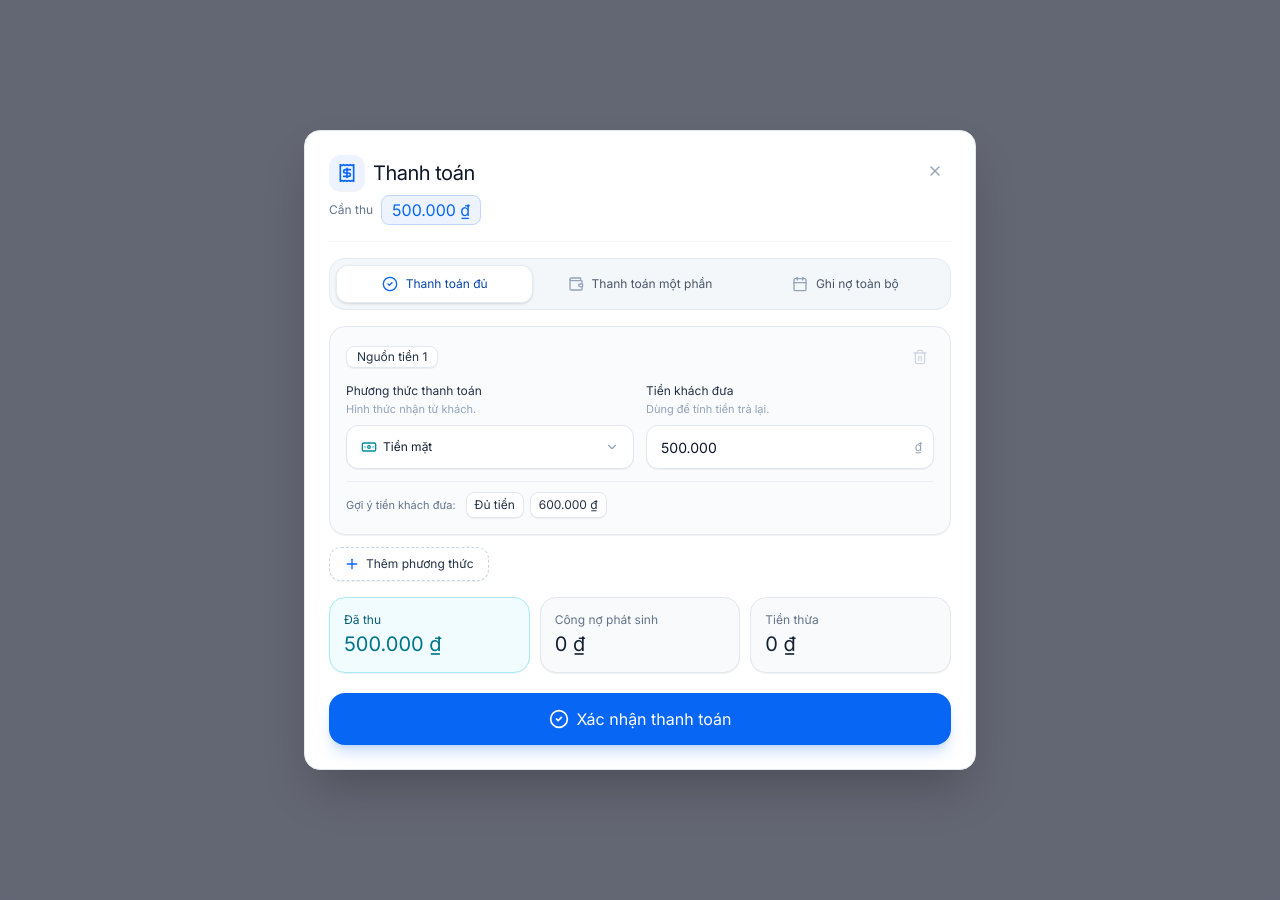
Scenario: PaymentDialog › automatically balances payment sources in full payment mode
The image size is (1280, 900).
Click the button "Thêm phương thức". click: (409, 564)
box: [329, 547, 488, 581]
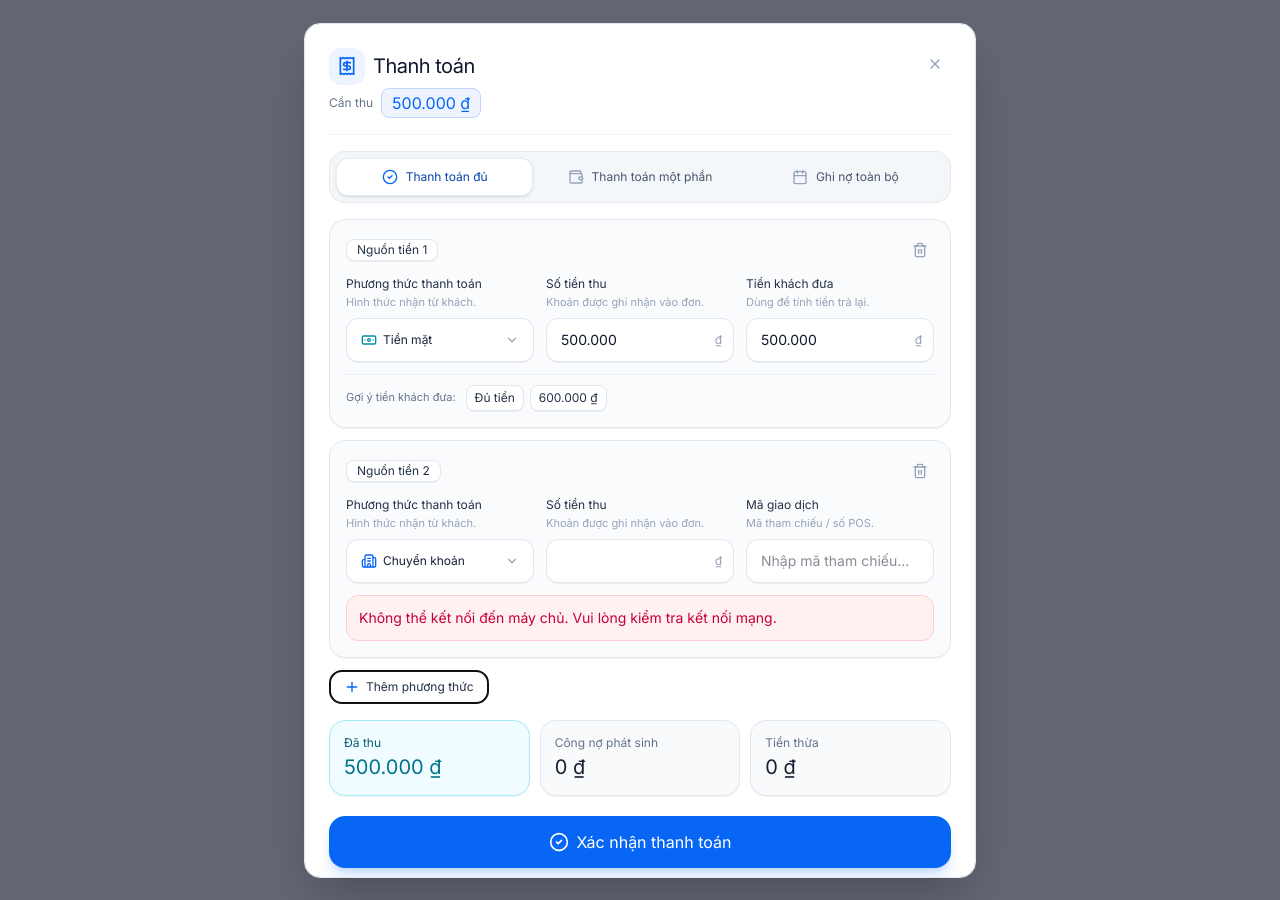
Expected: the field labelled "Số tiền thu" below "Dùng để tính tiền trả lại." holds "500.000", [546, 318, 734, 362]
Expected: the field labelled "Số tiền thu" below "Mã tham chiếu / số POS." is empty
# Typing 300.000 into Row 2 automatically reduces Row 1 to 200.000
Type "300000" into the field labelled "Số tiền thu" below "Mã tham chiếu / số POS.". click: (640, 560)
box: [546, 538, 734, 582]
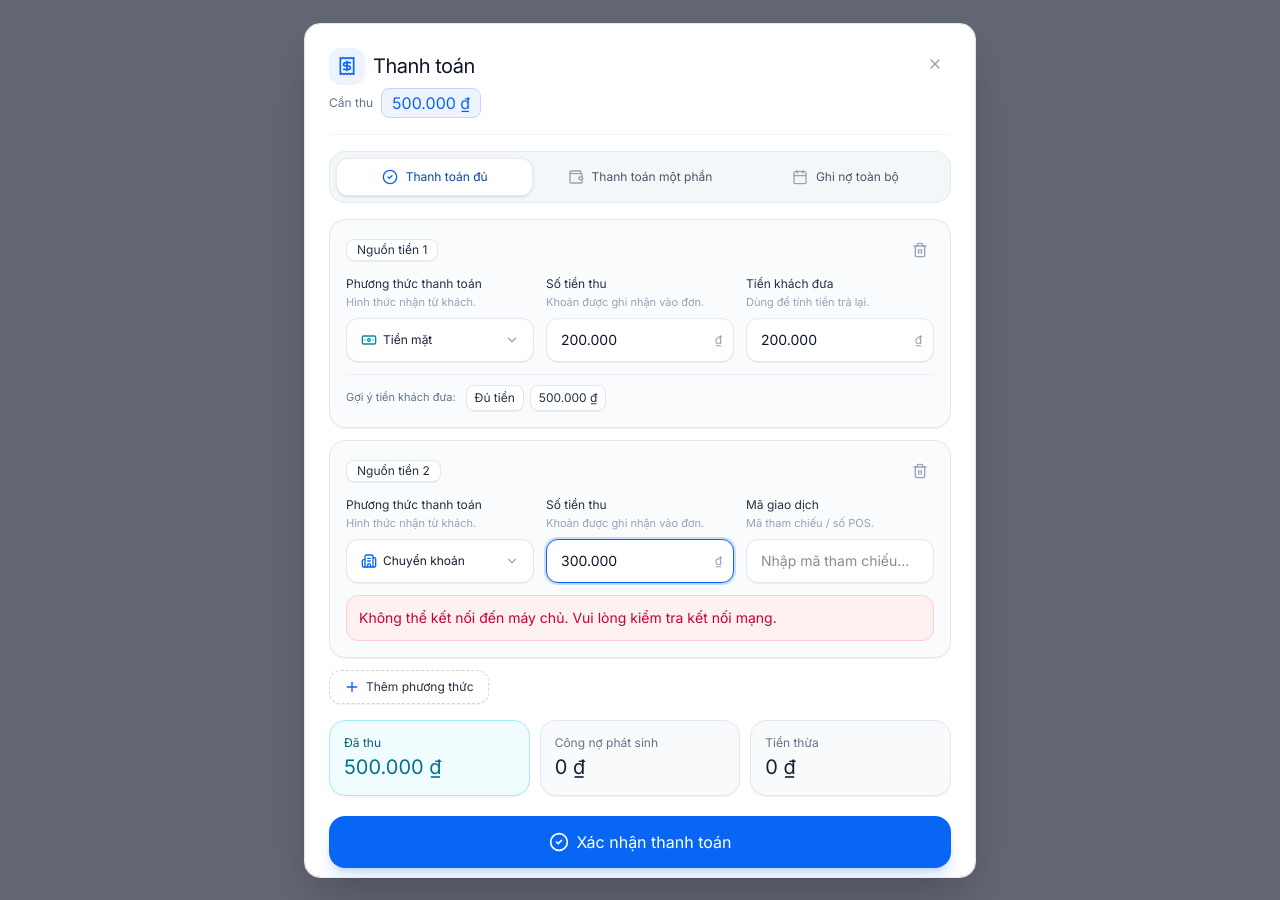
Expected: the field labelled "Số tiền thu" below "Dùng để tính tiền trả lại." holds "200.000"
Expected: the field labelled "Số tiền thu" below "Mã tham chiếu / số POS." holds "300.000", [546, 538, 734, 582]
# Typing 100.000 into Row 1 automatically balances Row 2 to 400.000
Replace the text in the field labelled "Số tiền thu" below "Dùng để tính tiền trả lại." with "100000". click: (640, 340)
box: [546, 318, 734, 362]
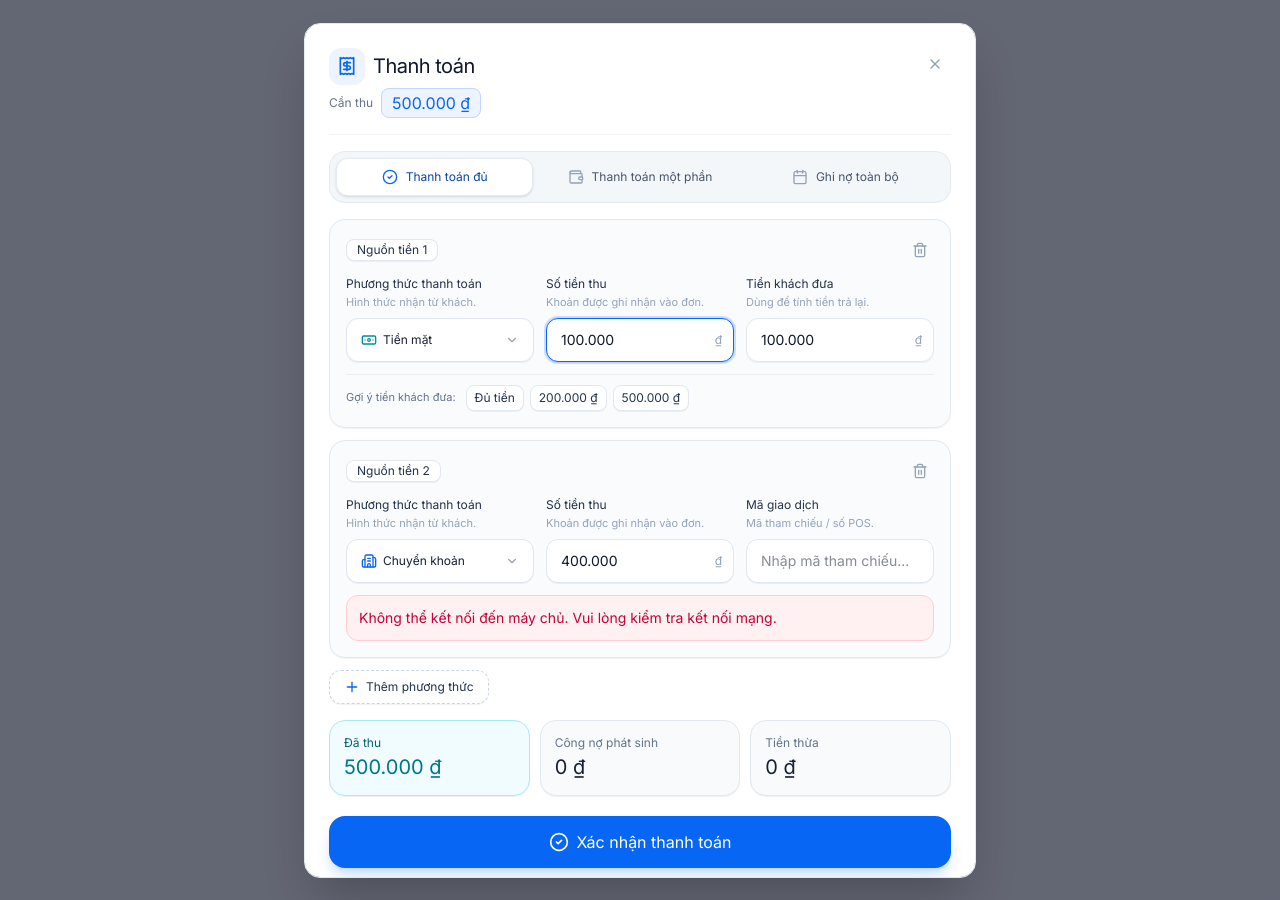
Expected: the field labelled "Số tiền thu" below "Dùng để tính tiền trả lại." holds "100.000", [546, 318, 734, 362]
Expected: the field labelled "Số tiền thu" below "Mã tham chiếu / số POS." holds "400.000", [546, 538, 734, 582]
